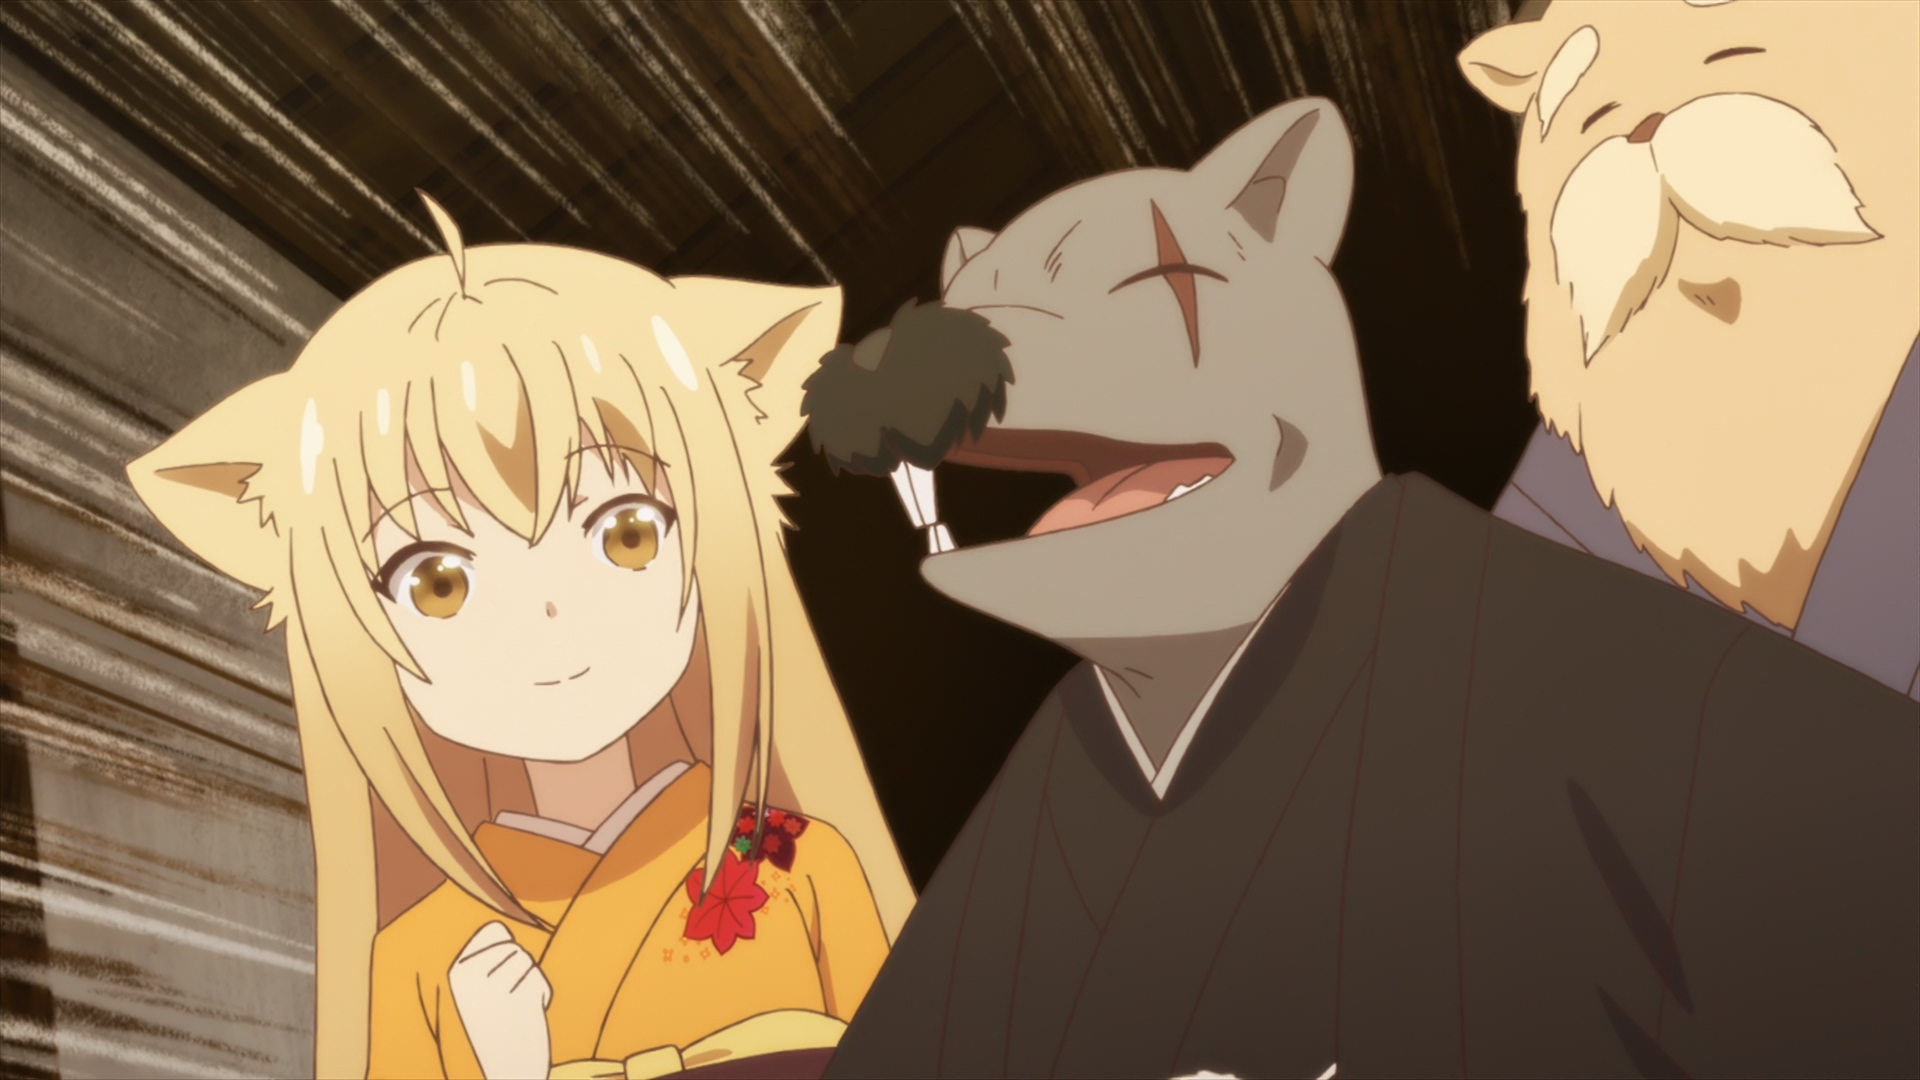其他: (802, 98, 1920, 1080)
柚: (127, 186, 915, 1080)
药店老板: (1458, 1, 1920, 698)
